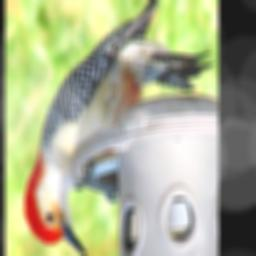Woodpecker: (24, 0, 214, 255)
